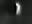person: (16, 2, 23, 18)
